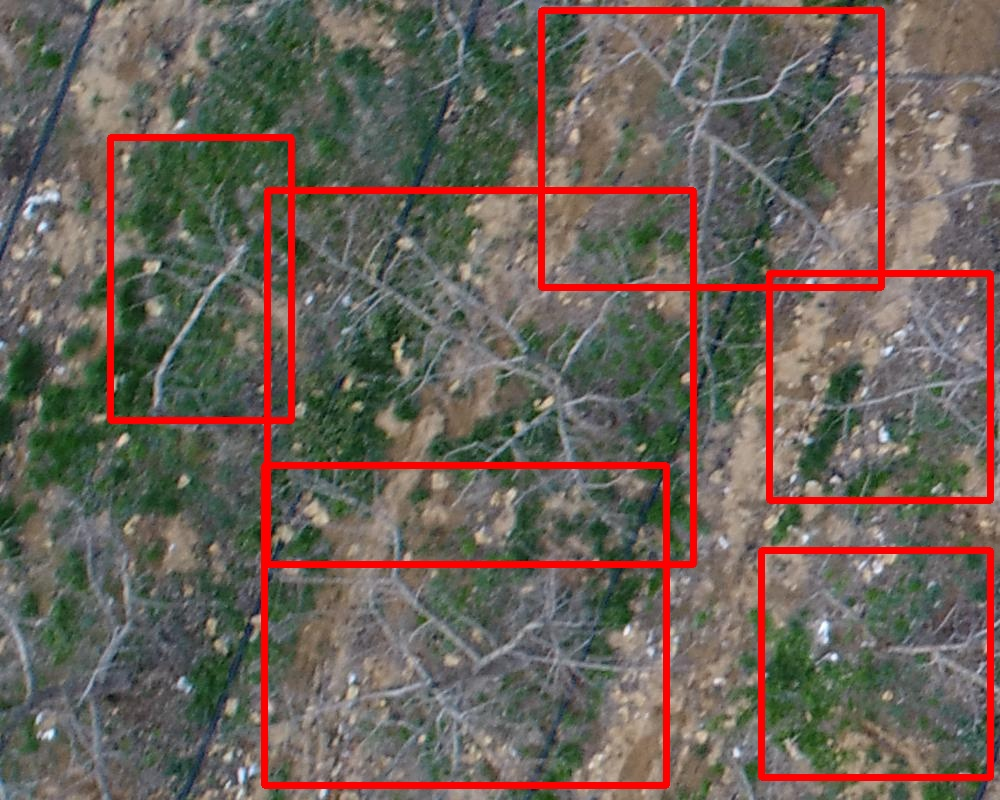apple: (267, 190, 693, 564), (264, 465, 666, 785), (541, 10, 881, 287), (761, 550, 990, 777), (110, 137, 291, 420), (769, 273, 990, 500)
